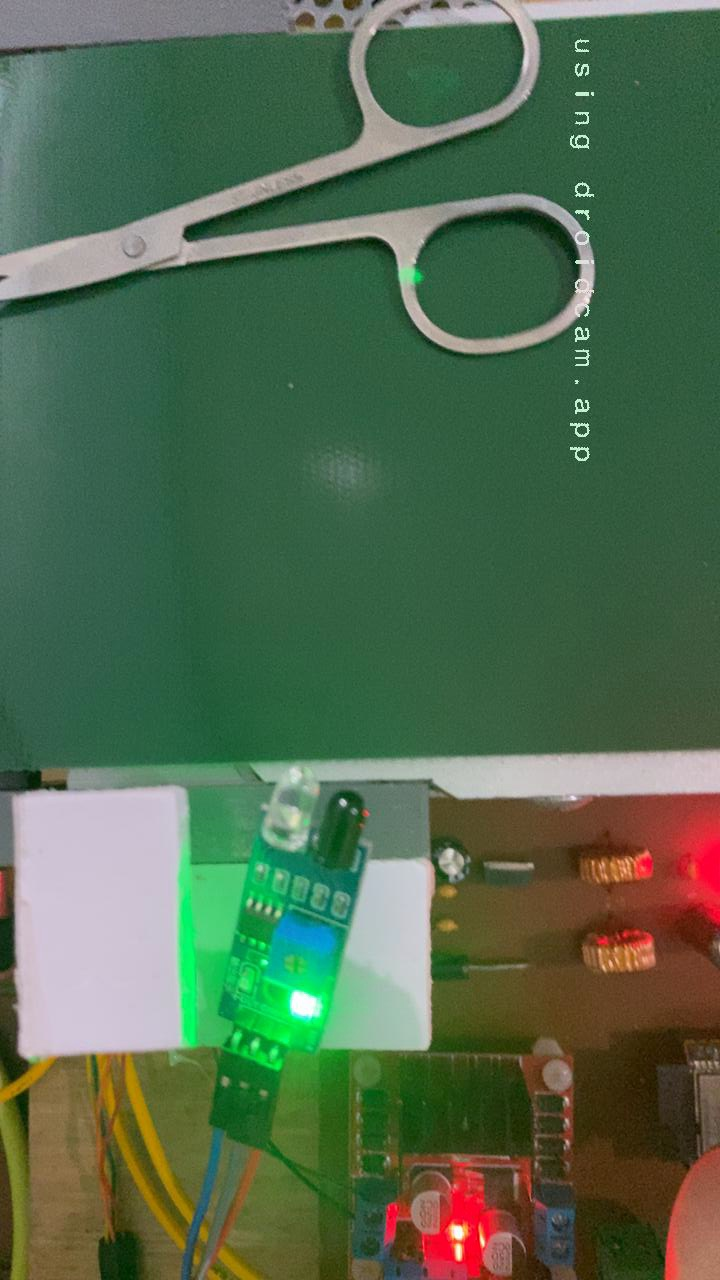scissor: (0, 26, 604, 362)
